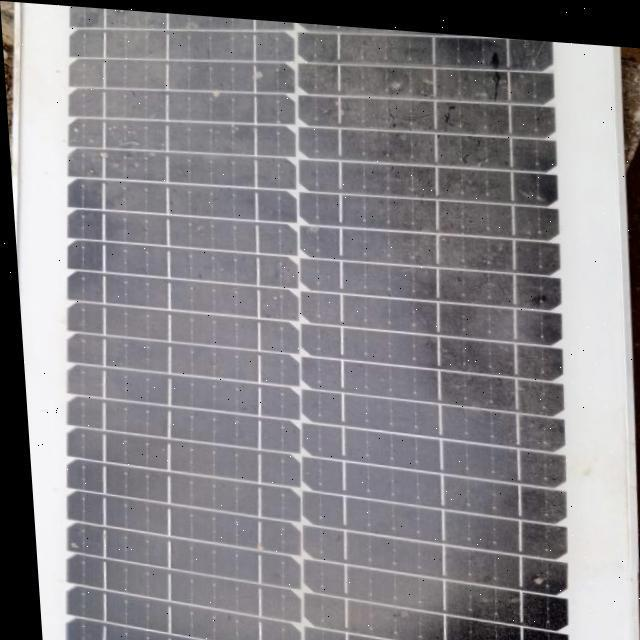Anomaly Solar Panel: (23, 9, 593, 640)
Surface Contaminant: (43, 10, 569, 640)
